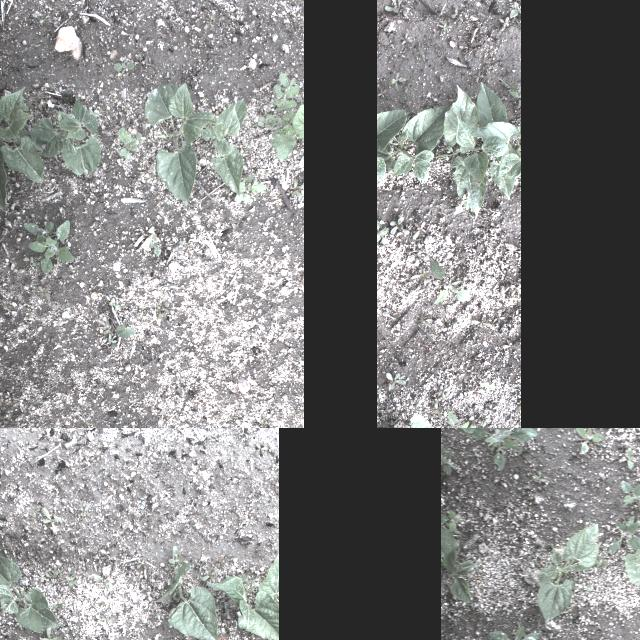crop: (436, 83, 520, 221), (143, 82, 213, 206), (0, 54, 45, 213), (534, 520, 598, 626), (207, 552, 279, 640), (28, 98, 102, 180), (377, 104, 447, 183), (155, 565, 228, 640), (0, 551, 60, 633), (202, 99, 250, 195), (377, 109, 407, 190), (622, 515, 640, 586), (405, 413, 446, 428)
weed: (455, 428, 537, 472), (266, 72, 304, 162), (444, 519, 480, 607), (23, 219, 75, 279), (414, 258, 468, 304), (606, 515, 640, 558), (480, 622, 537, 640), (117, 127, 143, 161), (236, 175, 266, 202), (580, 430, 604, 460), (386, 216, 409, 244), (40, 506, 60, 536), (167, 546, 187, 574), (620, 479, 640, 507), (448, 408, 475, 428), (500, 77, 520, 101), (388, 71, 408, 93), (384, 372, 406, 392), (452, 191, 470, 215), (620, 447, 638, 471), (446, 504, 460, 534), (507, 280, 521, 306), (413, 220, 429, 242), (148, 234, 162, 258), (383, 0, 404, 16), (452, 2, 466, 24), (200, 565, 217, 583), (112, 61, 136, 73), (288, 180, 304, 198), (479, 378, 495, 396), (37, 630, 65, 640), (473, 316, 492, 330), (377, 219, 387, 245), (488, 218, 502, 236), (112, 326, 136, 336), (507, 0, 519, 20), (498, 342, 518, 354), (52, 598, 74, 608), (254, 444, 272, 456), (499, 15, 513, 30), (382, 309, 402, 319), (399, 32, 413, 46), (416, 317, 430, 331), (37, 284, 49, 300), (438, 384, 450, 400), (236, 428, 249, 442), (65, 572, 75, 590), (438, 20, 449, 36), (102, 319, 112, 336), (105, 339, 117, 353), (470, 72, 484, 84), (421, 52, 433, 66), (392, 274, 406, 286), (155, 300, 163, 320), (161, 300, 171, 316), (94, 577, 110, 587), (256, 114, 268, 126), (427, 344, 439, 356), (78, 634, 102, 640), (52, 566, 64, 578), (434, 402, 444, 416), (484, 404, 498, 414), (468, 417, 479, 428), (378, 89, 388, 101), (510, 310, 520, 322), (79, 504, 89, 516), (96, 614, 106, 626), (90, 452, 102, 462), (404, 82, 412, 96), (492, 314, 503, 324), (481, 417, 491, 428), (498, 356, 509, 366), (197, 559, 206, 571), (437, 6, 447, 16), (93, 600, 105, 608), (138, 557, 146, 569), (39, 15, 49, 23), (110, 300, 120, 308), (233, 24, 241, 34), (120, 524, 128, 534), (210, 431, 220, 439), (46, 574, 54, 584), (428, 32, 434, 44), (92, 458, 101, 466), (433, 367, 441, 375), (0, 298, 6, 308), (297, 358, 303, 368), (266, 540, 276, 546), (250, 635, 260, 640), (204, 18, 212, 24), (70, 629, 76, 635)
